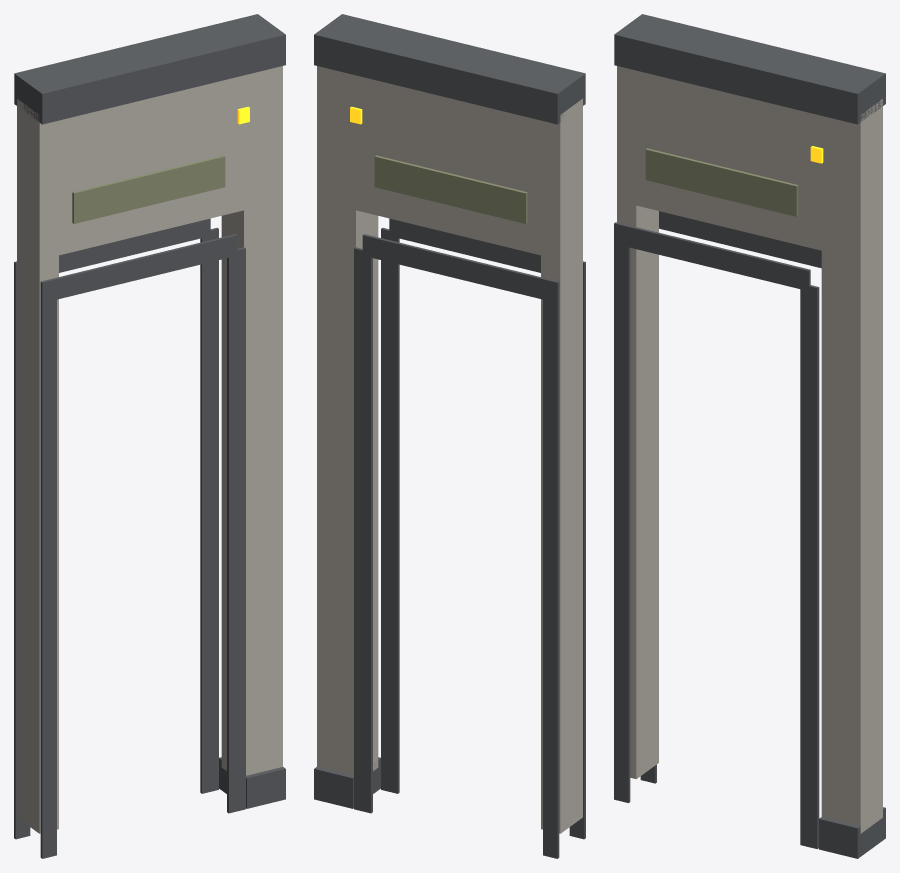
File: wall_door.glb
3 views of the same model, side by side, from view 1: azimuth 30°, elevation 25°; view 2: azimuth 150°, elevation 25°; view 3: azimuth 330°, elevation 25° (orthographic).
Parts seen in each view (by area): view 1: door_wall_right_jamb, door_wall_header, door_wall_left_jamb, door_wall_top_cap, door_back_frame_right, door_front_frame_right, door_back_frame_left, door_back_olive_header, door_back_frame_top, door_front_frame_top, door_front_frame_left, door_wall_bottom_right_cap; view 2: door_wall_right_jamb, door_wall_header, door_wall_left_jamb, door_wall_top_cap, door_front_frame_right, door_back_frame_right, door_front_frame_left, door_front_olive_header, door_front_frame_top, door_back_frame_top, door_back_frame_left, door_wall_bottom_right_cap; view 3: door_wall_right_jamb, door_wall_header, door_wall_left_jamb, door_wall_top_cap, door_back_frame_right, door_back_frame_left, door_back_olive_header, door_back_frame_top, door_front_frame_top, door_wall_bottom_right_cap.
Part boxes in pixels (x1=…): door_wall_right_jamb: x1=221, y1=66, x2=282, y2=775; door_wall_header: x1=44, y1=75, x2=248, y2=257; door_wall_left_jamb: x1=17, y1=99, x2=58, y2=833; door_wall_top_cap: x1=14, y1=14, x2=285, y2=124; door_back_frame_right: x1=227, y1=247, x2=245, y2=813; door_front_frame_right: x1=200, y1=227, x2=218, y2=793; door_back_frame_left: x1=40, y1=299, x2=56, y2=858; door_back_olive_header: x1=72, y1=155, x2=225, y2=223; door_back_frame_top: x1=40, y1=234, x2=237, y2=302; door_front_frame_top: x1=14, y1=218, x2=210, y2=283; door_front_frame_left: x1=14, y1=277, x2=30, y2=839; door_wall_bottom_right_cap: x1=219, y1=757, x2=285, y2=808; door_wall_right_jamb: x1=317, y1=66, x2=378, y2=775; door_wall_header: x1=351, y1=74, x2=555, y2=258; door_wall_left_jamb: x1=541, y1=98, x2=582, y2=833; door_wall_top_cap: x1=314, y1=14, x2=585, y2=124; door_front_frame_right: x1=354, y1=247, x2=372, y2=813; door_back_frame_right: x1=381, y1=227, x2=399, y2=793; door_front_frame_left: x1=543, y1=299, x2=559, y2=858; door_front_olive_header: x1=374, y1=155, x2=527, y2=223; door_front_frame_top: x1=362, y1=234, x2=559, y2=302; door_back_frame_top: x1=389, y1=218, x2=585, y2=283; door_back_frame_left: x1=569, y1=277, x2=585, y2=839; door_wall_bottom_right_cap: x1=314, y1=757, x2=380, y2=808; door_wall_right_jamb: x1=821, y1=99, x2=882, y2=833; door_wall_header: x1=622, y1=67, x2=826, y2=251; door_wall_left_jamb: x1=617, y1=66, x2=658, y2=779; door_wall_top_cap: x1=614, y1=14, x2=885, y2=124; door_back_frame_right: x1=800, y1=285, x2=819, y2=849; door_back_frame_left: x1=614, y1=243, x2=630, y2=802; door_back_olive_header: x1=645, y1=148, x2=798, y2=216; door_back_frame_top: x1=614, y1=222, x2=810, y2=291; door_front_frame_top: x1=659, y1=211, x2=821, y2=268; door_wall_bottom_right_cap: x1=819, y1=807, x2=885, y2=858.
Size of the model in its own units: 1 by 3 by 0.202.
